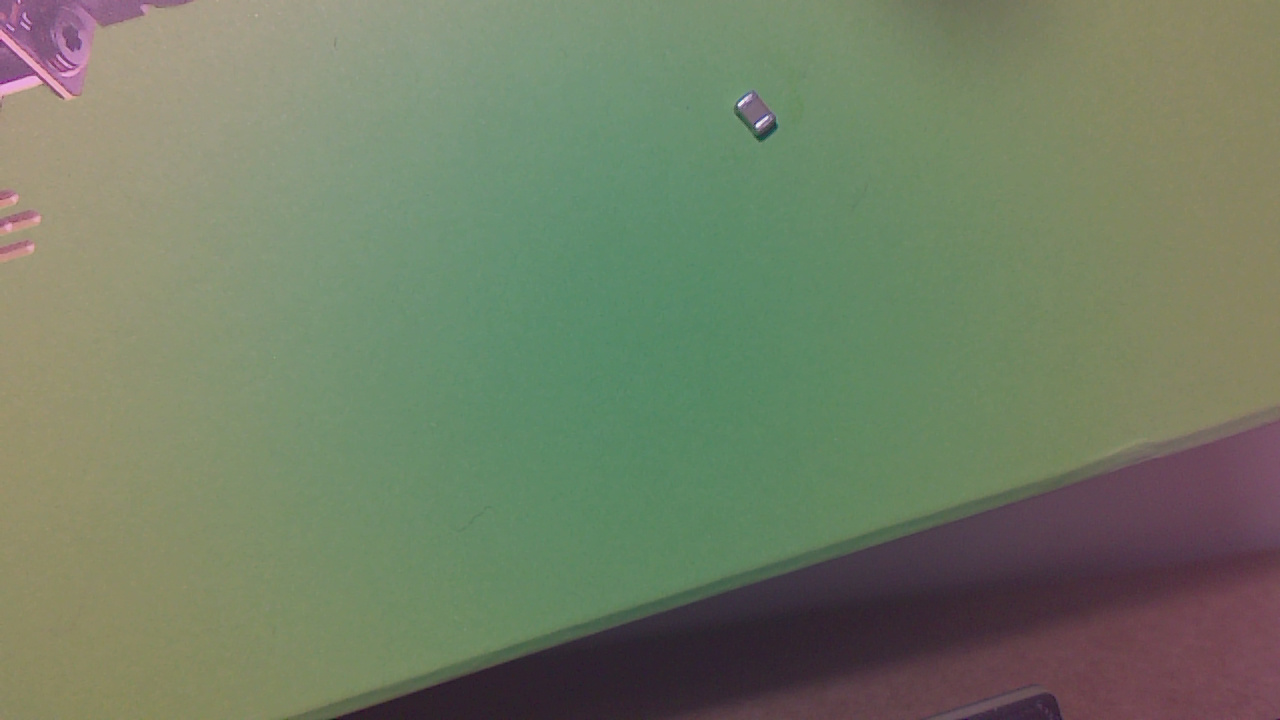Condensator: (738, 95, 783, 147)
